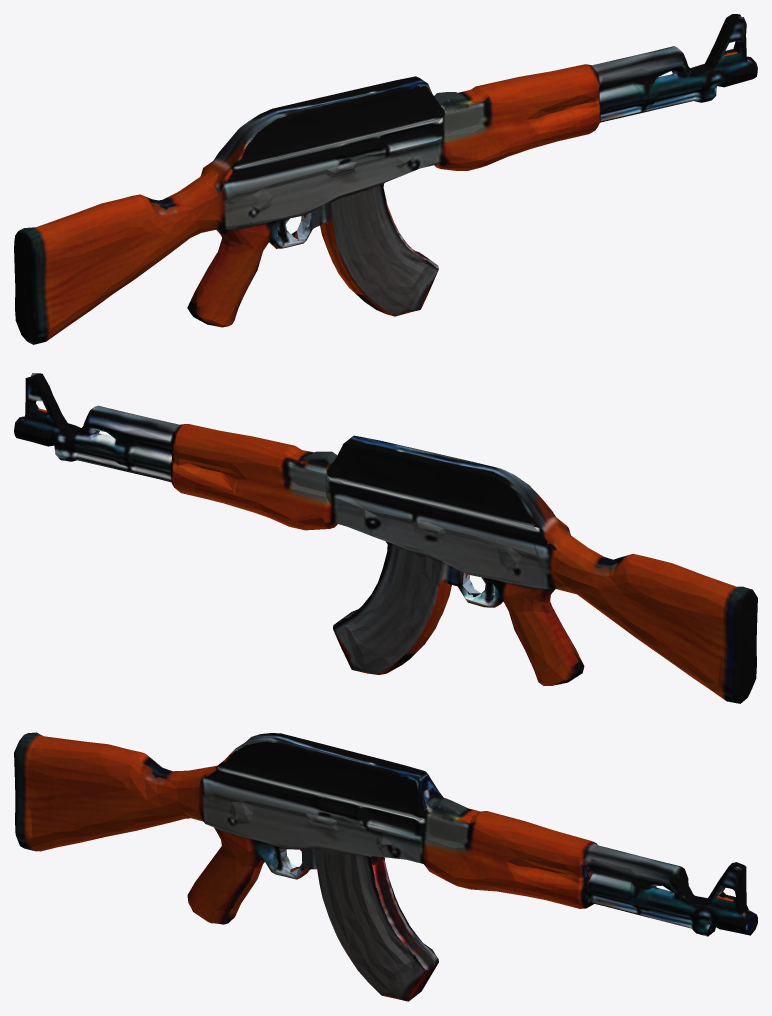
The picture shows the model from 3 angles, top to bottom: view 1: azimuth 30°, elevation 25°; view 2: azimuth 150°, elevation 25°; view 3: azimuth 330°, elevation 25°; orthographic projection.
Parts seen in each view (by area): view 1: temp_mesh.ply; view 2: temp_mesh.ply; view 3: temp_mesh.ply.
Boxes of the visible parts, x1,y1,x2,y2 form: temp_mesh.ply: (14,14,757,344); temp_mesh.ply: (14,373,757,703); temp_mesh.ply: (14,732,757,1001).
Bounding box in the file's own units: 1.97 × 0.5883 × 0.1238.
Materials: 1 (1 with a texture image).
